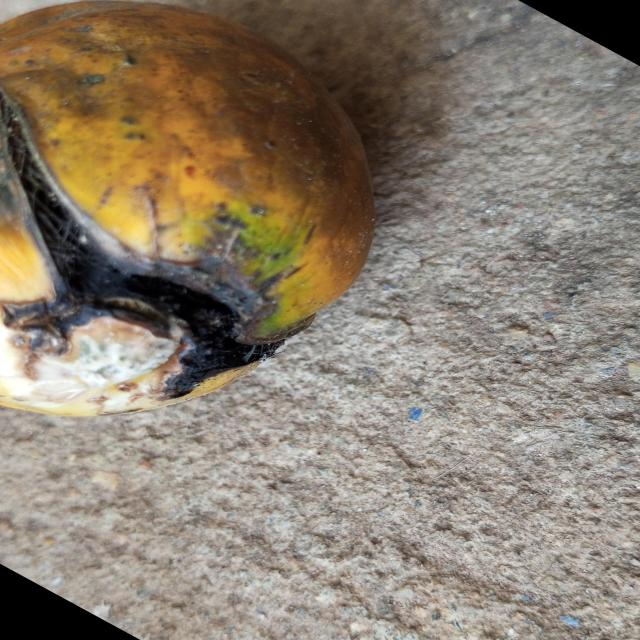damaged: (0, 2, 375, 416)
